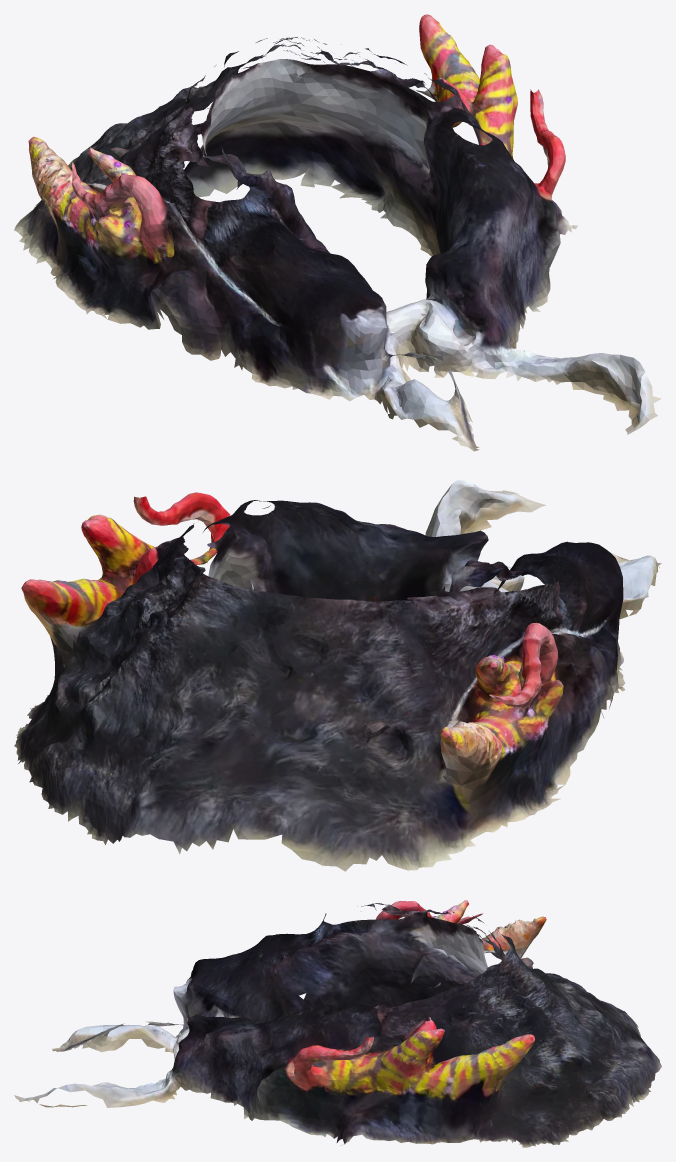
Rendered from Shuo_Xi.glb.
3 renders of one model, top to bottom at view 1: azimuth 30°, elevation 25°; view 2: azimuth 150°, elevation 25°; view 3: azimuth 270°, elevation 25°, orthographic. The views are drawn at different scales.
Parts seen in each view (by area): view 1: Mesh_0; view 2: Mesh_0; view 3: Mesh_0.
Boxes of the visible parts, x1=… form: Mesh_0: x1=14, y1=14, x2=661, y2=451; Mesh_0: x1=14, y1=480, x2=661, y2=871; Mesh_0: x1=14, y1=900, x2=661, y2=1147.
Bounding box in the file's own units: 2.43 × 0.9461 × 4.01.
Materials: 1 (1 with a texture image).
